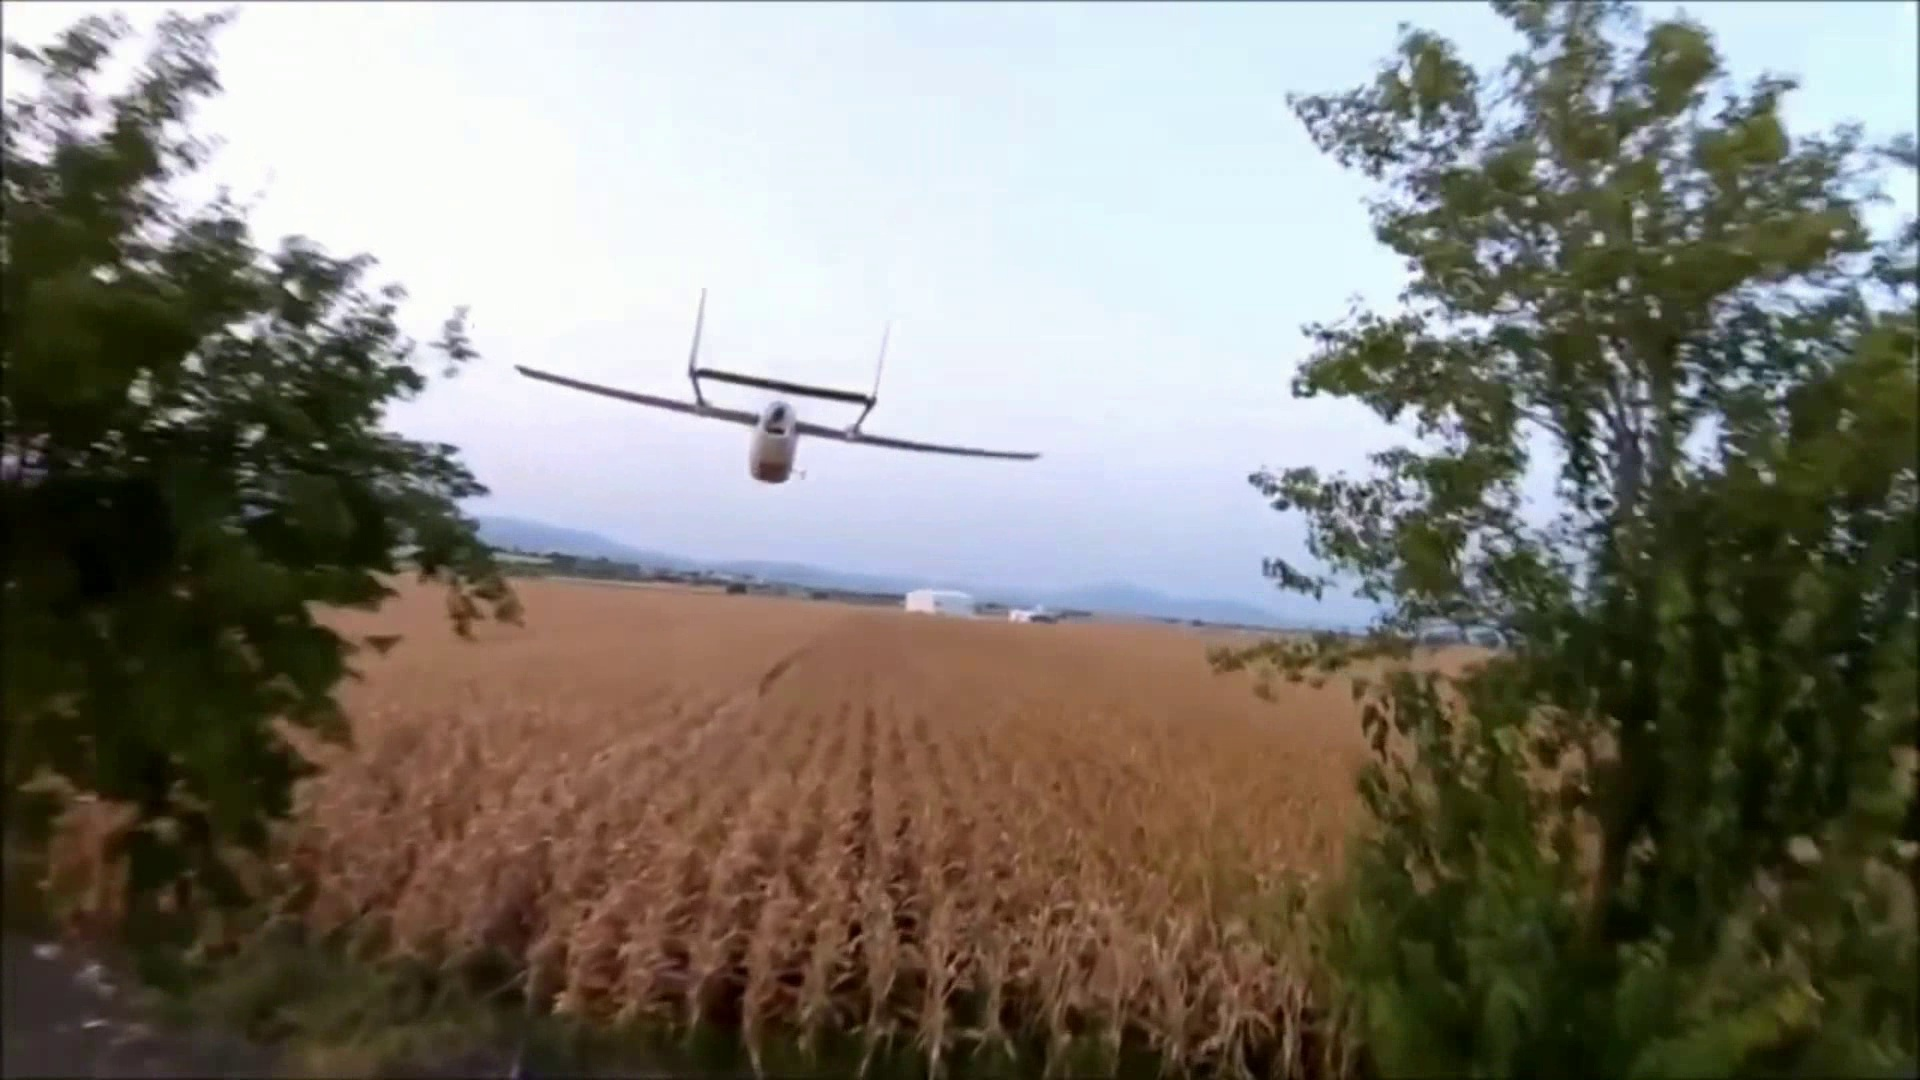airplane: (512, 287, 1043, 483)
